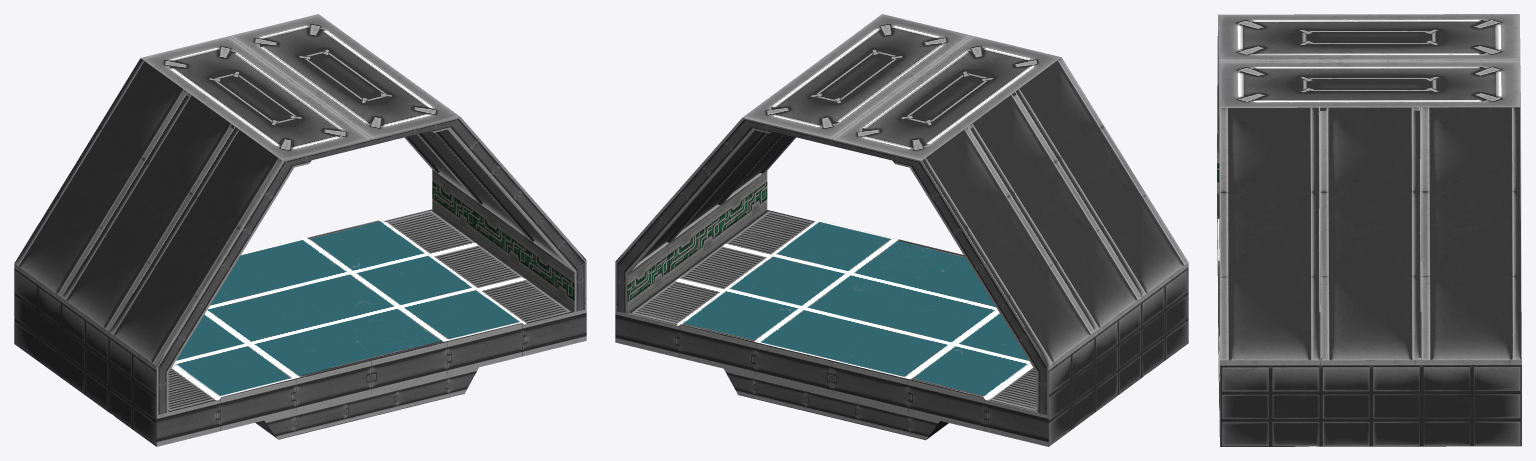
Rendered from ARC1110043.fbx.
3 renders of one model, left to right at view 1: azimuth 30°, elevation 25°; view 2: azimuth 150°, elevation 25°; view 3: azimuth 270°, elevation 25°, orthographic. The views are drawn at different scales.
Visible parts, largest first — view 1: smARC1110043; view 2: smARC1110043; view 3: smARC1110043.
Part boxes in pixels (box(x1,y1,x2,y2)): smARC1110043: box(14, 14, 586, 446); smARC1110043: box(615, 14, 1188, 446); smARC1110043: box(1217, 14, 1521, 446).
Size of the model in its own units: 530 by 326 by 302.
1 material, 1 textured.
